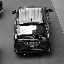motor: (11, 8, 50, 55)
